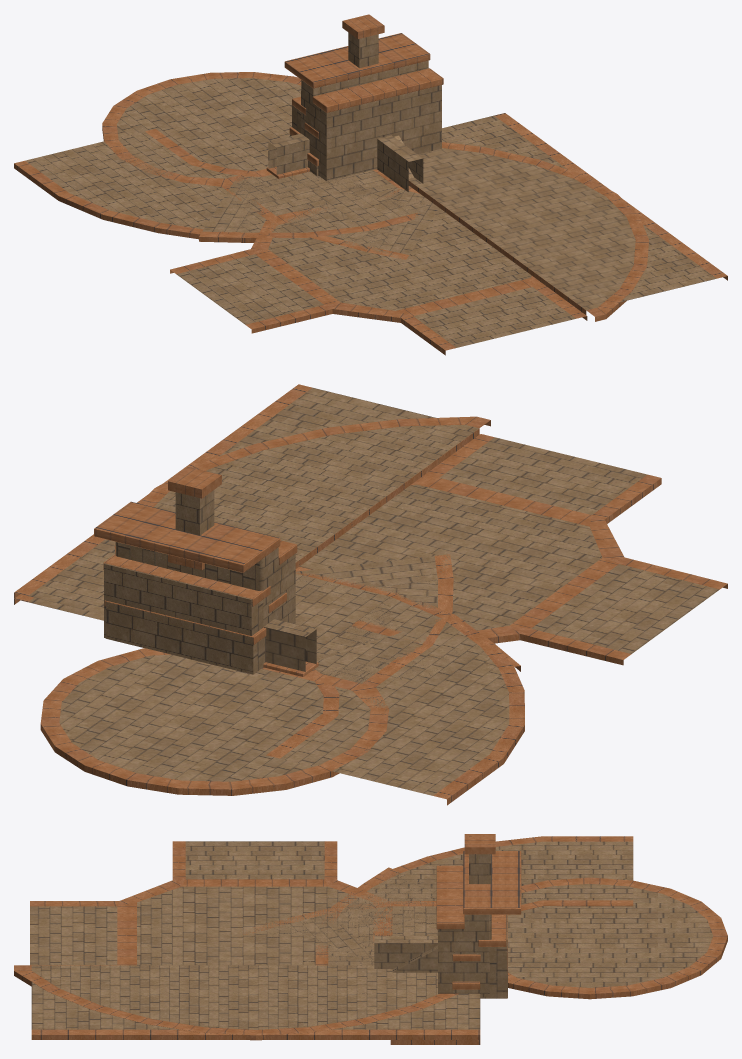
File: CaminhoSet.fbx
The picture shows the model from 3 angles, top to bottom: view 1: azimuth 30°, elevation 25°; view 2: azimuth 150°, elevation 25°; view 3: azimuth 270°, elevation 25°; orthographic projection. The views are drawn at different scales.
Parts seen in each view (by area): view 1: CaminhoCruzamento, CaminhoMeiaLua, CaminhoCurva90, DegrauTop, CaminhoCirculo, CaminhoSimples2, CaminhoCurva45E, CaminhoCurva45D, CorrimãoWall, PilarM, Parede01; view 2: CaminhoCruzamento, CaminhoCirculo, CaminhoCurva90, CaminhoMeiaLua, CaminhoSimples2, DegrauTop, DegrauMeio, CaminhoCurva45E, DegrauBase, PilarM, Parede01, CaminhoCurva45D; view 3: CaminhoCruzamento, CaminhoMeiaLua, CaminhoCirculo, CaminhoCurva90, CaminhoSimples2, DegrauTop, CaminhoCurva45E, CaminhoCurva45D, DegrauMeio, CorrimãoWall, PilarM, ParedeDiagonal (+1 smaller).
Part boxes in pixels (x1,y1,x2,y2): CaminhoCruzamento: [170, 169, 587, 355]; CaminhoMeiaLua: [408, 142, 648, 321]; CaminhoCurva90: [14, 129, 419, 242]; DegrauTop: [284, 33, 443, 181]; CaminhoCirculo: [102, 72, 301, 186]; CaminhoSimples2: [408, 113, 727, 314]; CaminhoCurva45E: [227, 169, 438, 259]; CaminhoCurva45D: [199, 170, 418, 242]; CorrimãoWall: [377, 135, 423, 191]; PilarM: [342, 14, 384, 68]; Parede01: [268, 133, 309, 174]; CaminhoCruzamento: [299, 434, 727, 686]; CaminhoCirculo: [40, 648, 389, 795]; CaminhoCurva90: [266, 566, 524, 805]; CaminhoMeiaLua: [114, 416, 490, 562]; CaminhoSimples2: [14, 384, 479, 614]; DegrauTop: [94, 501, 297, 627]; DegrauMeio: [103, 554, 286, 637]; CaminhoCurva45E: [295, 554, 453, 683]; DegrauBase: [104, 600, 266, 674]; PilarM: [168, 467, 221, 535]; Parede01: [264, 619, 316, 671]; CaminhoCurva45D: [295, 576, 520, 687]; CaminhoCruzamento: [30, 841, 437, 965]; CaminhoMeiaLua: [14, 965, 458, 1040]; CaminhoCirculo: [508, 877, 727, 999]; CaminhoCurva90: [315, 836, 633, 965]; CaminhoSimples2: [31, 982, 480, 1039]; DegrauTop: [436, 851, 521, 997]; CaminhoCurva45E: [243, 901, 436, 964]; CaminhoCurva45D: [329, 867, 436, 965]; DegrauMeio: [452, 914, 507, 998]; CorrimãoWall: [374, 936, 437, 968]; PilarM: [464, 834, 495, 883]; ParedeDiagonal: [392, 945, 437, 972].
Size of the model in its own units: 539 by 231 by 796.
2 materials, 2 textured.
